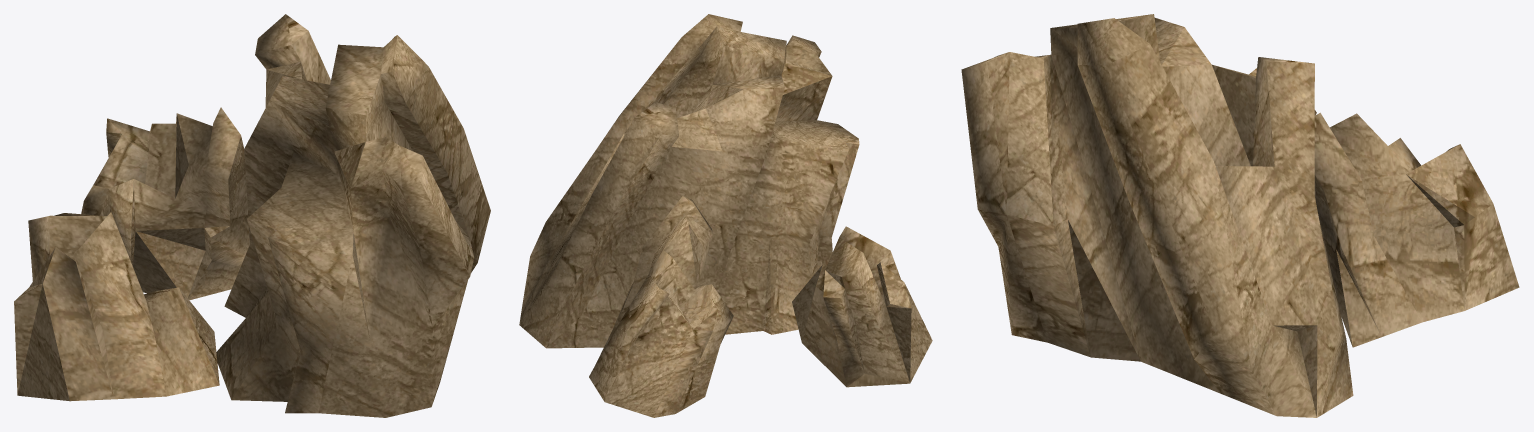
The model's file is mine_stonemine_desert_quarry.glb.
The picture shows the model from 3 angles, left to right: view 1: azimuth 30°, elevation 25°; view 2: azimuth 150°, elevation 25°; view 3: azimuth 270°, elevation 25°; orthographic projection. The views are drawn at different scales.
Visible parts, largest first — view 1: mine_stonemine_desert_quarry_part0; view 2: mine_stonemine_desert_quarry_part0; view 3: mine_stonemine_desert_quarry_part0.
Part boxes in pixels (x1=…): mine_stonemine_desert_quarry_part0: x1=14, y1=14, x2=490, y2=417; mine_stonemine_desert_quarry_part0: x1=519, y1=14, x2=932, y2=417; mine_stonemine_desert_quarry_part0: x1=961, y1=14, x2=1519, y2=417.
Bounding box in the file's own units: 4.74 × 3.37 × 4.96.
1 material, 1 textured.
